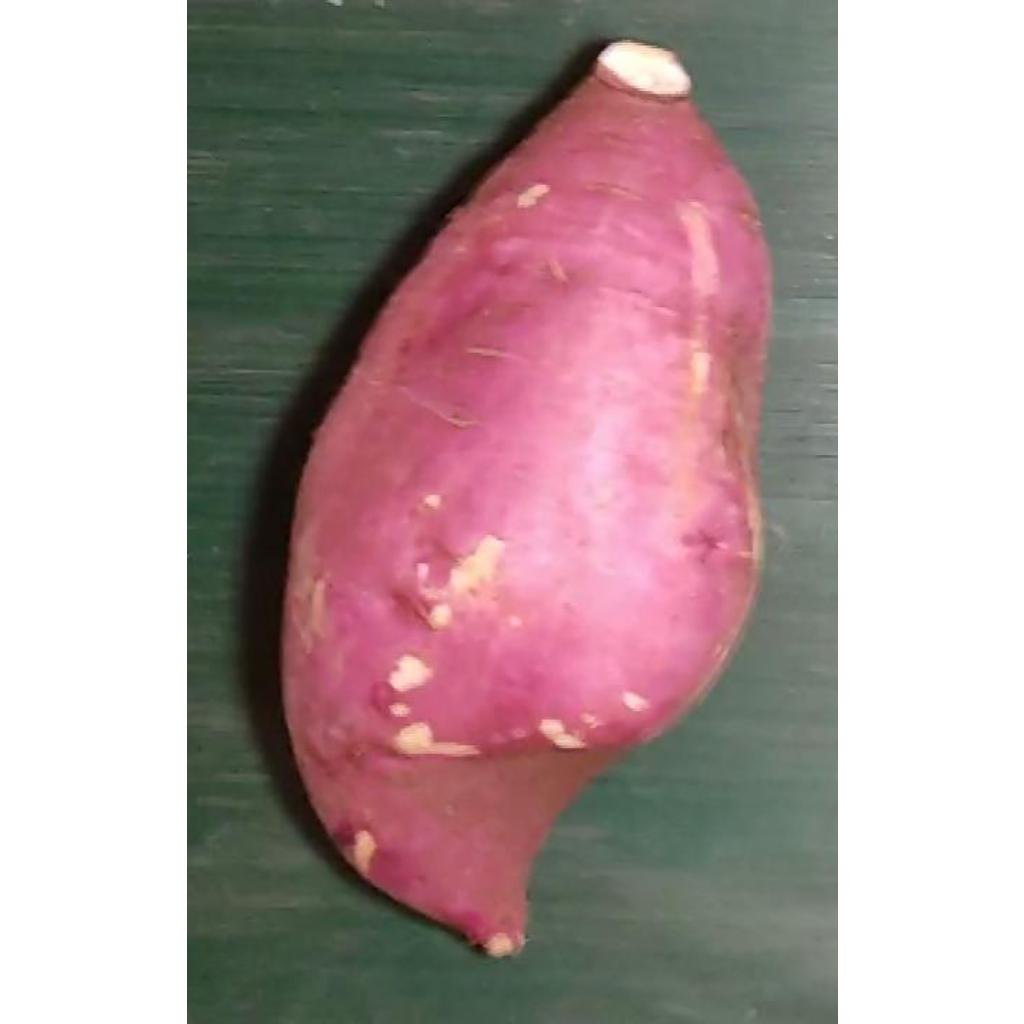Sweet Potato: (280, 41, 773, 961)
